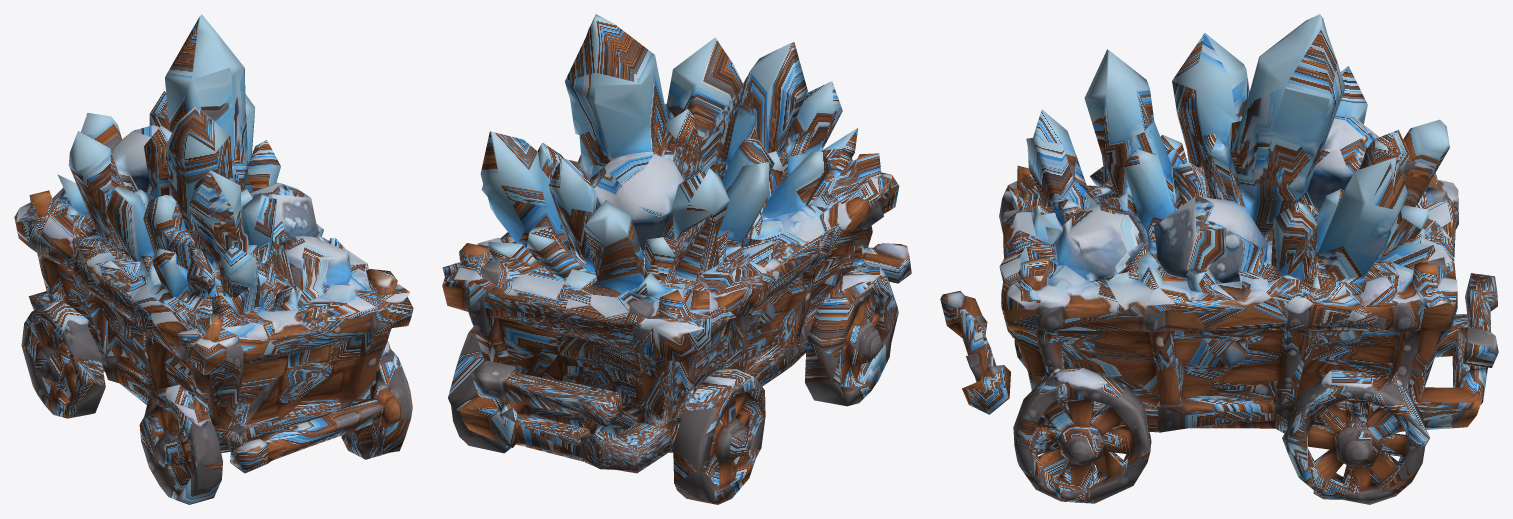
The model's file is fantasy_mining_cart_01.glb.
3 views of the same model, side by side, from view 1: azimuth 30°, elevation 25°; view 2: azimuth 150°, elevation 25°; view 3: azimuth 270°, elevation 25° (orthographic). The views are drawn at different scales.
Visible parts, largest first — view 1: tripo_node_619381ca-ba2b-4a92-8c2b-d0b937970224; view 2: tripo_node_619381ca-ba2b-4a92-8c2b-d0b937970224; view 3: tripo_node_619381ca-ba2b-4a92-8c2b-d0b937970224.
Part boxes in pixels (x1,y1,x2,y2): tripo_node_619381ca-ba2b-4a92-8c2b-d0b937970224: (14,14,413,504); tripo_node_619381ca-ba2b-4a92-8c2b-d0b937970224: (442,14,911,504); tripo_node_619381ca-ba2b-4a92-8c2b-d0b937970224: (940,14,1498,504).
Size of the model in its own units: 0.5864 by 0.8644 by 0.9798.
Materials: 1 (1 with a texture image).
